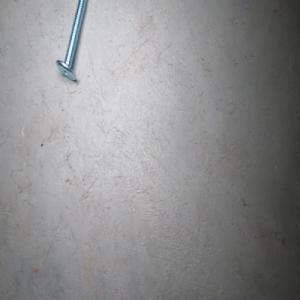Bolt: (55, 0, 89, 81)
